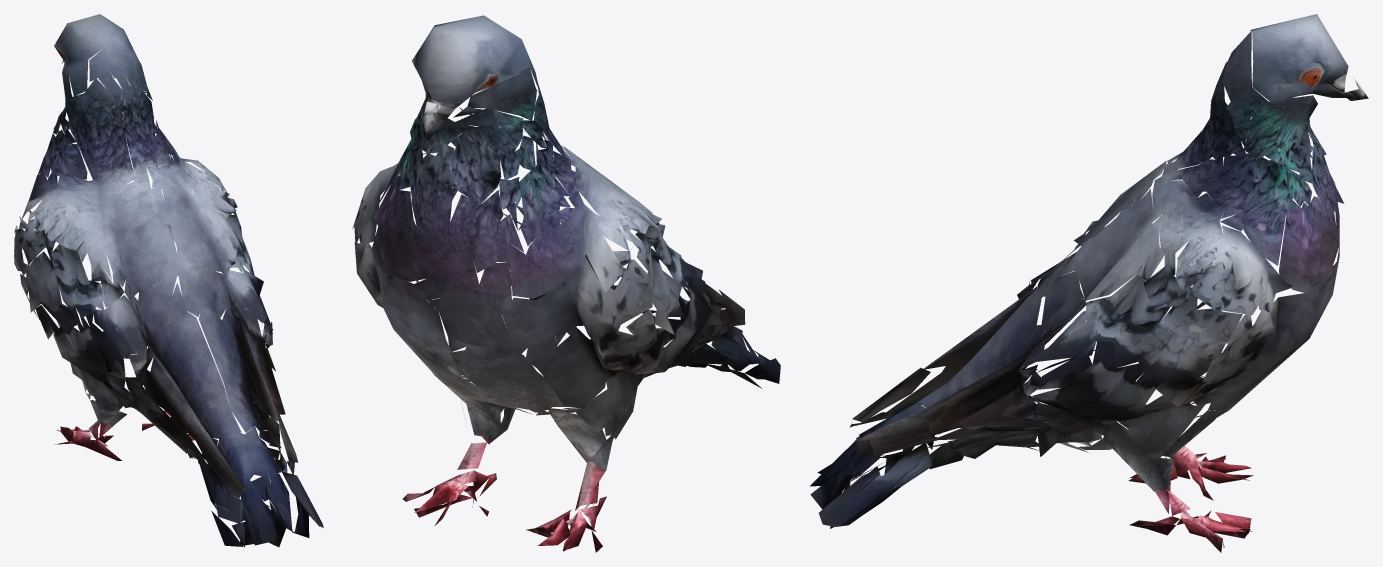
File: taube.glb
3 renders of one model, left to right at view 1: azimuth 30°, elevation 25°; view 2: azimuth 150°, elevation 25°; view 3: azimuth 270°, elevation 25°, orthographic. The views are drawn at different scales.
Parts seen in each view (by area): view 1: tripo_node_c006140a-1a33-44b6-b45b-776ac3a84e16; view 2: tripo_node_c006140a-1a33-44b6-b45b-776ac3a84e16; view 3: tripo_node_c006140a-1a33-44b6-b45b-776ac3a84e16.
Boxes of the visible parts, box(x1,y1,x2,y2) form: tripo_node_c006140a-1a33-44b6-b45b-776ac3a84e16: box(14, 14, 323, 547); tripo_node_c006140a-1a33-44b6-b45b-776ac3a84e16: box(352, 15, 780, 552); tripo_node_c006140a-1a33-44b6-b45b-776ac3a84e16: box(810, 14, 1368, 552).
Size of the model in its own units: 0.1388 by 0.2463 by 0.2527.
1 material, 1 textured.
